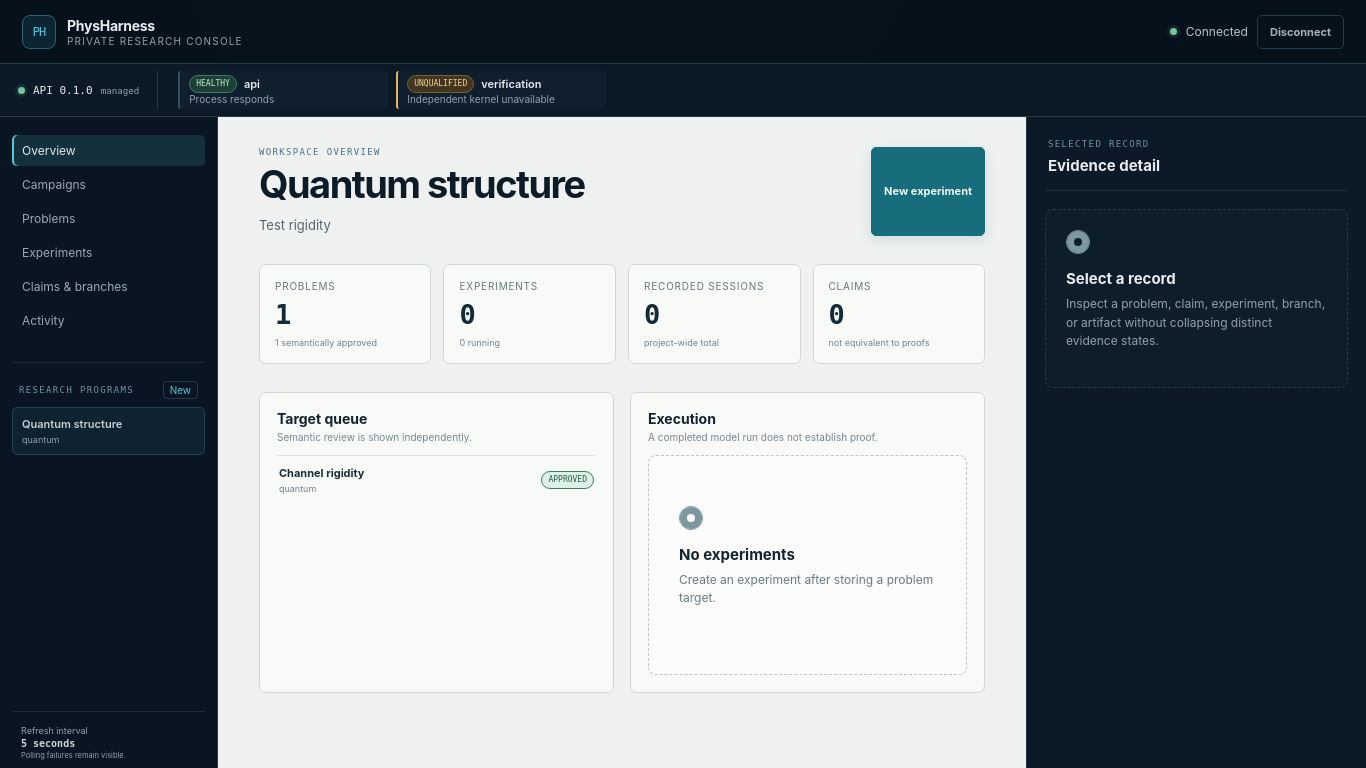
Test: research console › keeps semantic, proof, assumptions, and novelty evidence visibly separate
Click the button "Channel rigidity quantum Approved" at (322, 473), box [277,455,596,504]
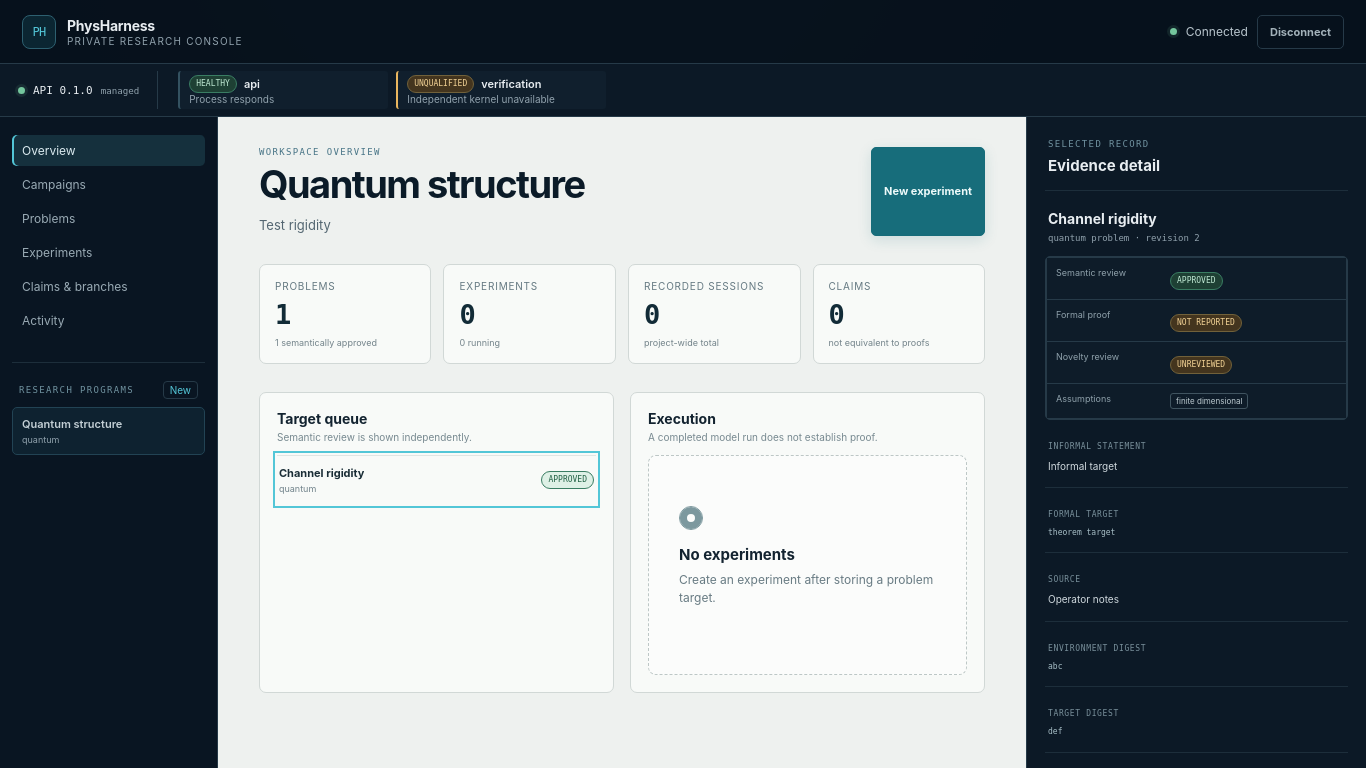
expect the text "Approved" below "quantum problem · revision 2" is shown: met, box [1177,276,1216,285]
expect the text "Unreviewed" is shown: met, box [1170,356,1232,374]
expect the text "finite dimensional" is shown: met, box [1170,393,1248,409]
